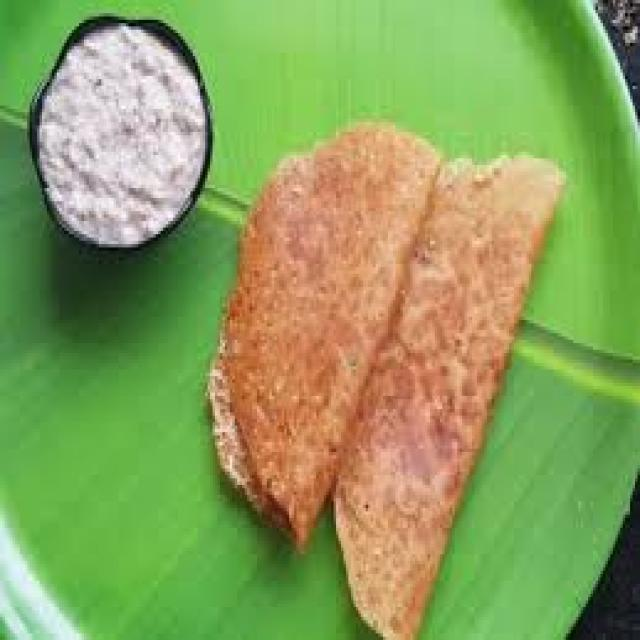DOSA: (331, 157, 572, 637), (213, 130, 440, 549)
